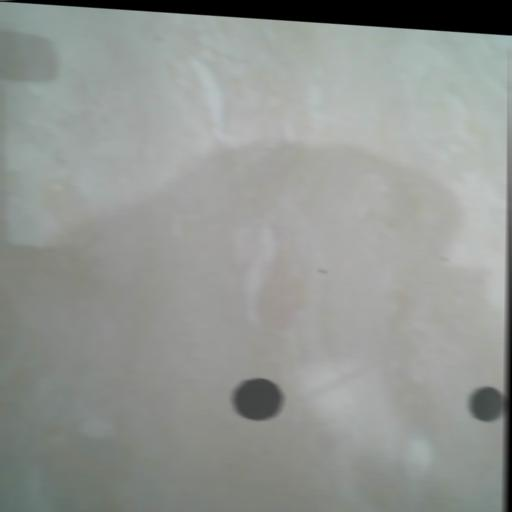pothole: (231, 375, 285, 421), (468, 384, 507, 422)
